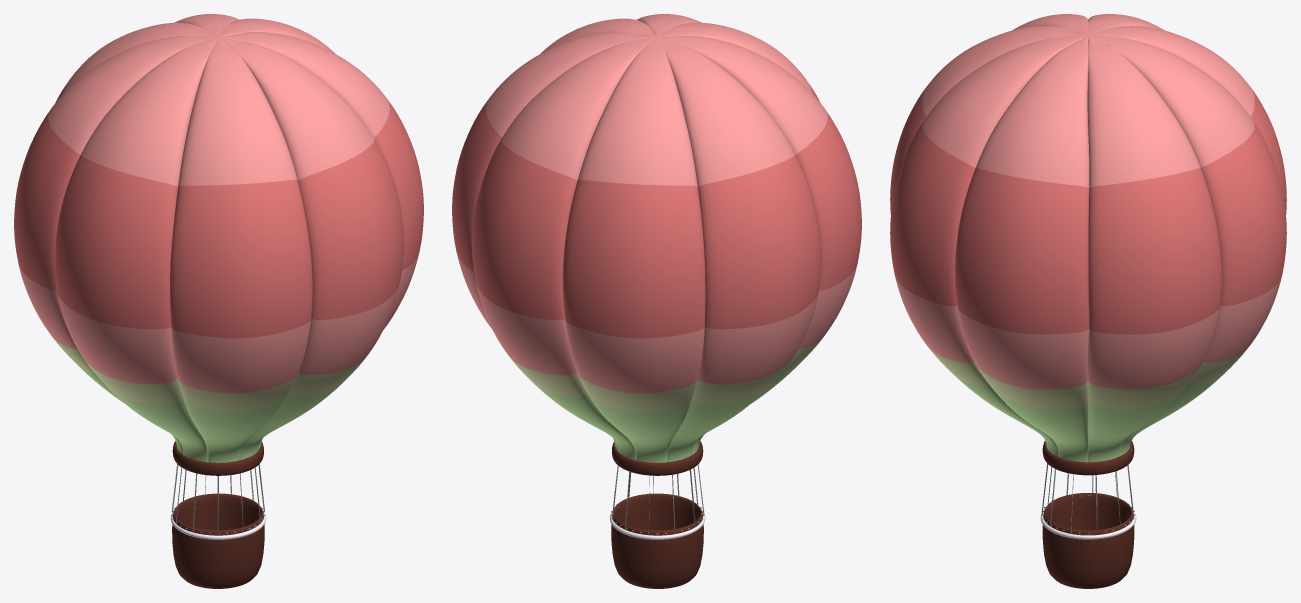
3 views of the same model, side by side, from view 1: azimuth 30°, elevation 25°; view 2: azimuth 150°, elevation 25°; view 3: azimuth 270°, elevation 25° (orthographic).
Parts seen in each view (by area): view 1: Sphere, Circle, Circle.001, Cycloid.001; view 2: Sphere, Circle, Circle.001, Cycloid.001; view 3: Sphere, Circle, Circle.001, Cycloid.001, BezierCircle.
Part boxes in pixels (x1=…): Sphere: x1=14, y1=14, x2=423, y2=462; Circle: x1=172, y1=493, x2=264, y2=588; Circle.001: x1=172, y1=441, x2=263, y2=475; Cycloid.001: x1=171, y1=464, x2=265, y2=534; Sphere: x1=452, y1=14, x2=861, y2=462; Circle: x1=611, y1=493, x2=703, y2=588; Circle.001: x1=612, y1=441, x2=703, y2=475; Cycloid.001: x1=610, y1=464, x2=704, y2=534; Sphere: x1=890, y1=14, x2=1286, y2=462; Circle: x1=1042, y1=493, x2=1134, y2=588; Circle.001: x1=1042, y1=441, x2=1134, y2=475; Cycloid.001: x1=1041, y1=463, x2=1135, y2=533; BezierCircle: x1=1040, y1=509, x2=1136, y2=539.
Bounding box in the file's own units: 777 × 1169 × 777.
